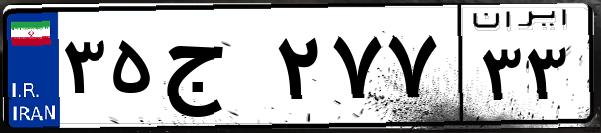2: (270, 28, 330, 110)
3: (57, 26, 110, 100), (475, 38, 525, 113), (525, 38, 570, 115)
5: (110, 28, 158, 98)
7: (385, 28, 445, 110), (330, 28, 385, 110)
ج: (158, 20, 270, 120)
